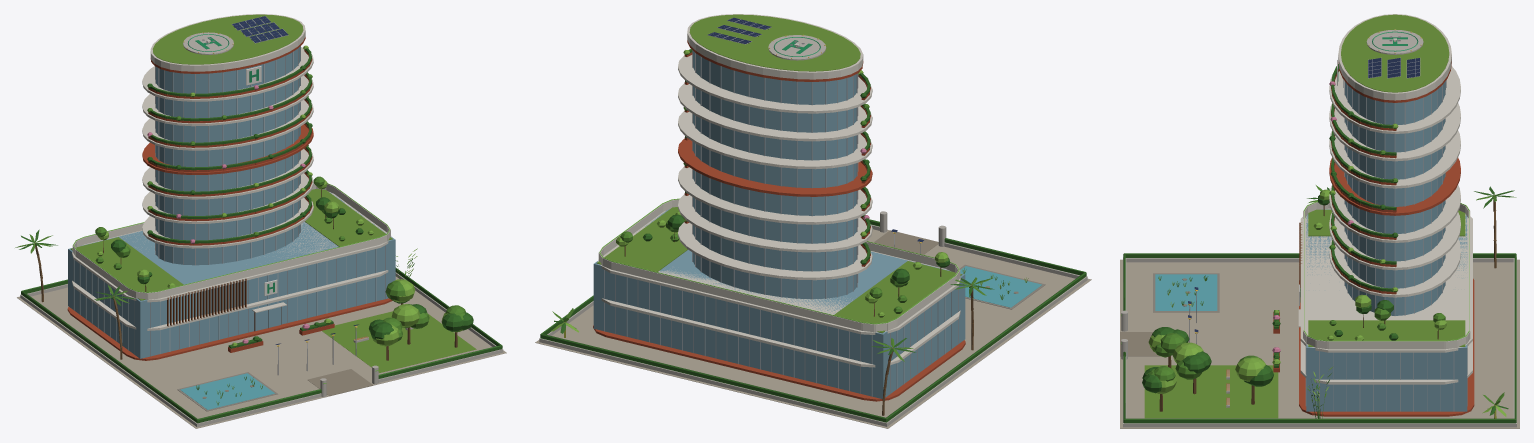
File: hospital.glb
The picture shows the model from 3 angles, left to right: view 1: azimuth 30°, elevation 25°; view 2: azimuth 150°, elevation 25°; view 3: azimuth 270°, elevation 25°; orthographic projection. The views are drawn at different scales.
Visible parts, largest first — view 1: body, windows; view 2: body, windows; view 3: body, windows.
Boxes of the visible parts, x1,y1,x2,y2 form: body: (15,14,506,428); windows: (73,32,390,383); body: (535,14,1091,428); windows: (599,35,959,324); body: (1120,14,1519,428); windows: (1121,29,1469,344).
Bounding box in the file's own units: 49.79 × 39.01 × 47.9.
